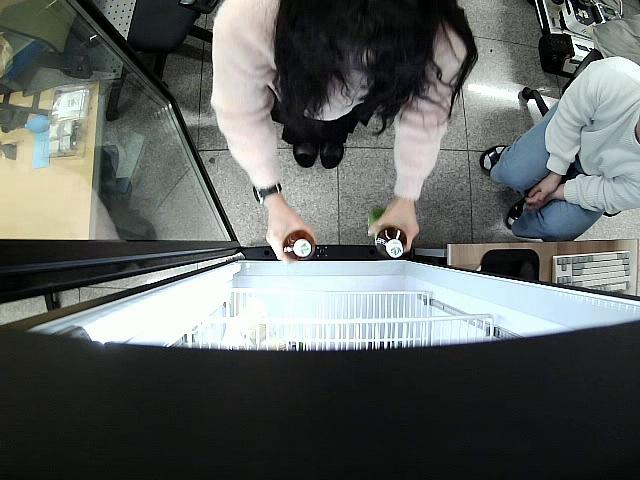00_hand: (260, 194, 318, 264), (365, 194, 422, 254)
19_17cha: (368, 204, 409, 258), (280, 230, 317, 261)
